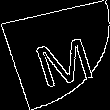M_N: (19, 24, 91, 86)
